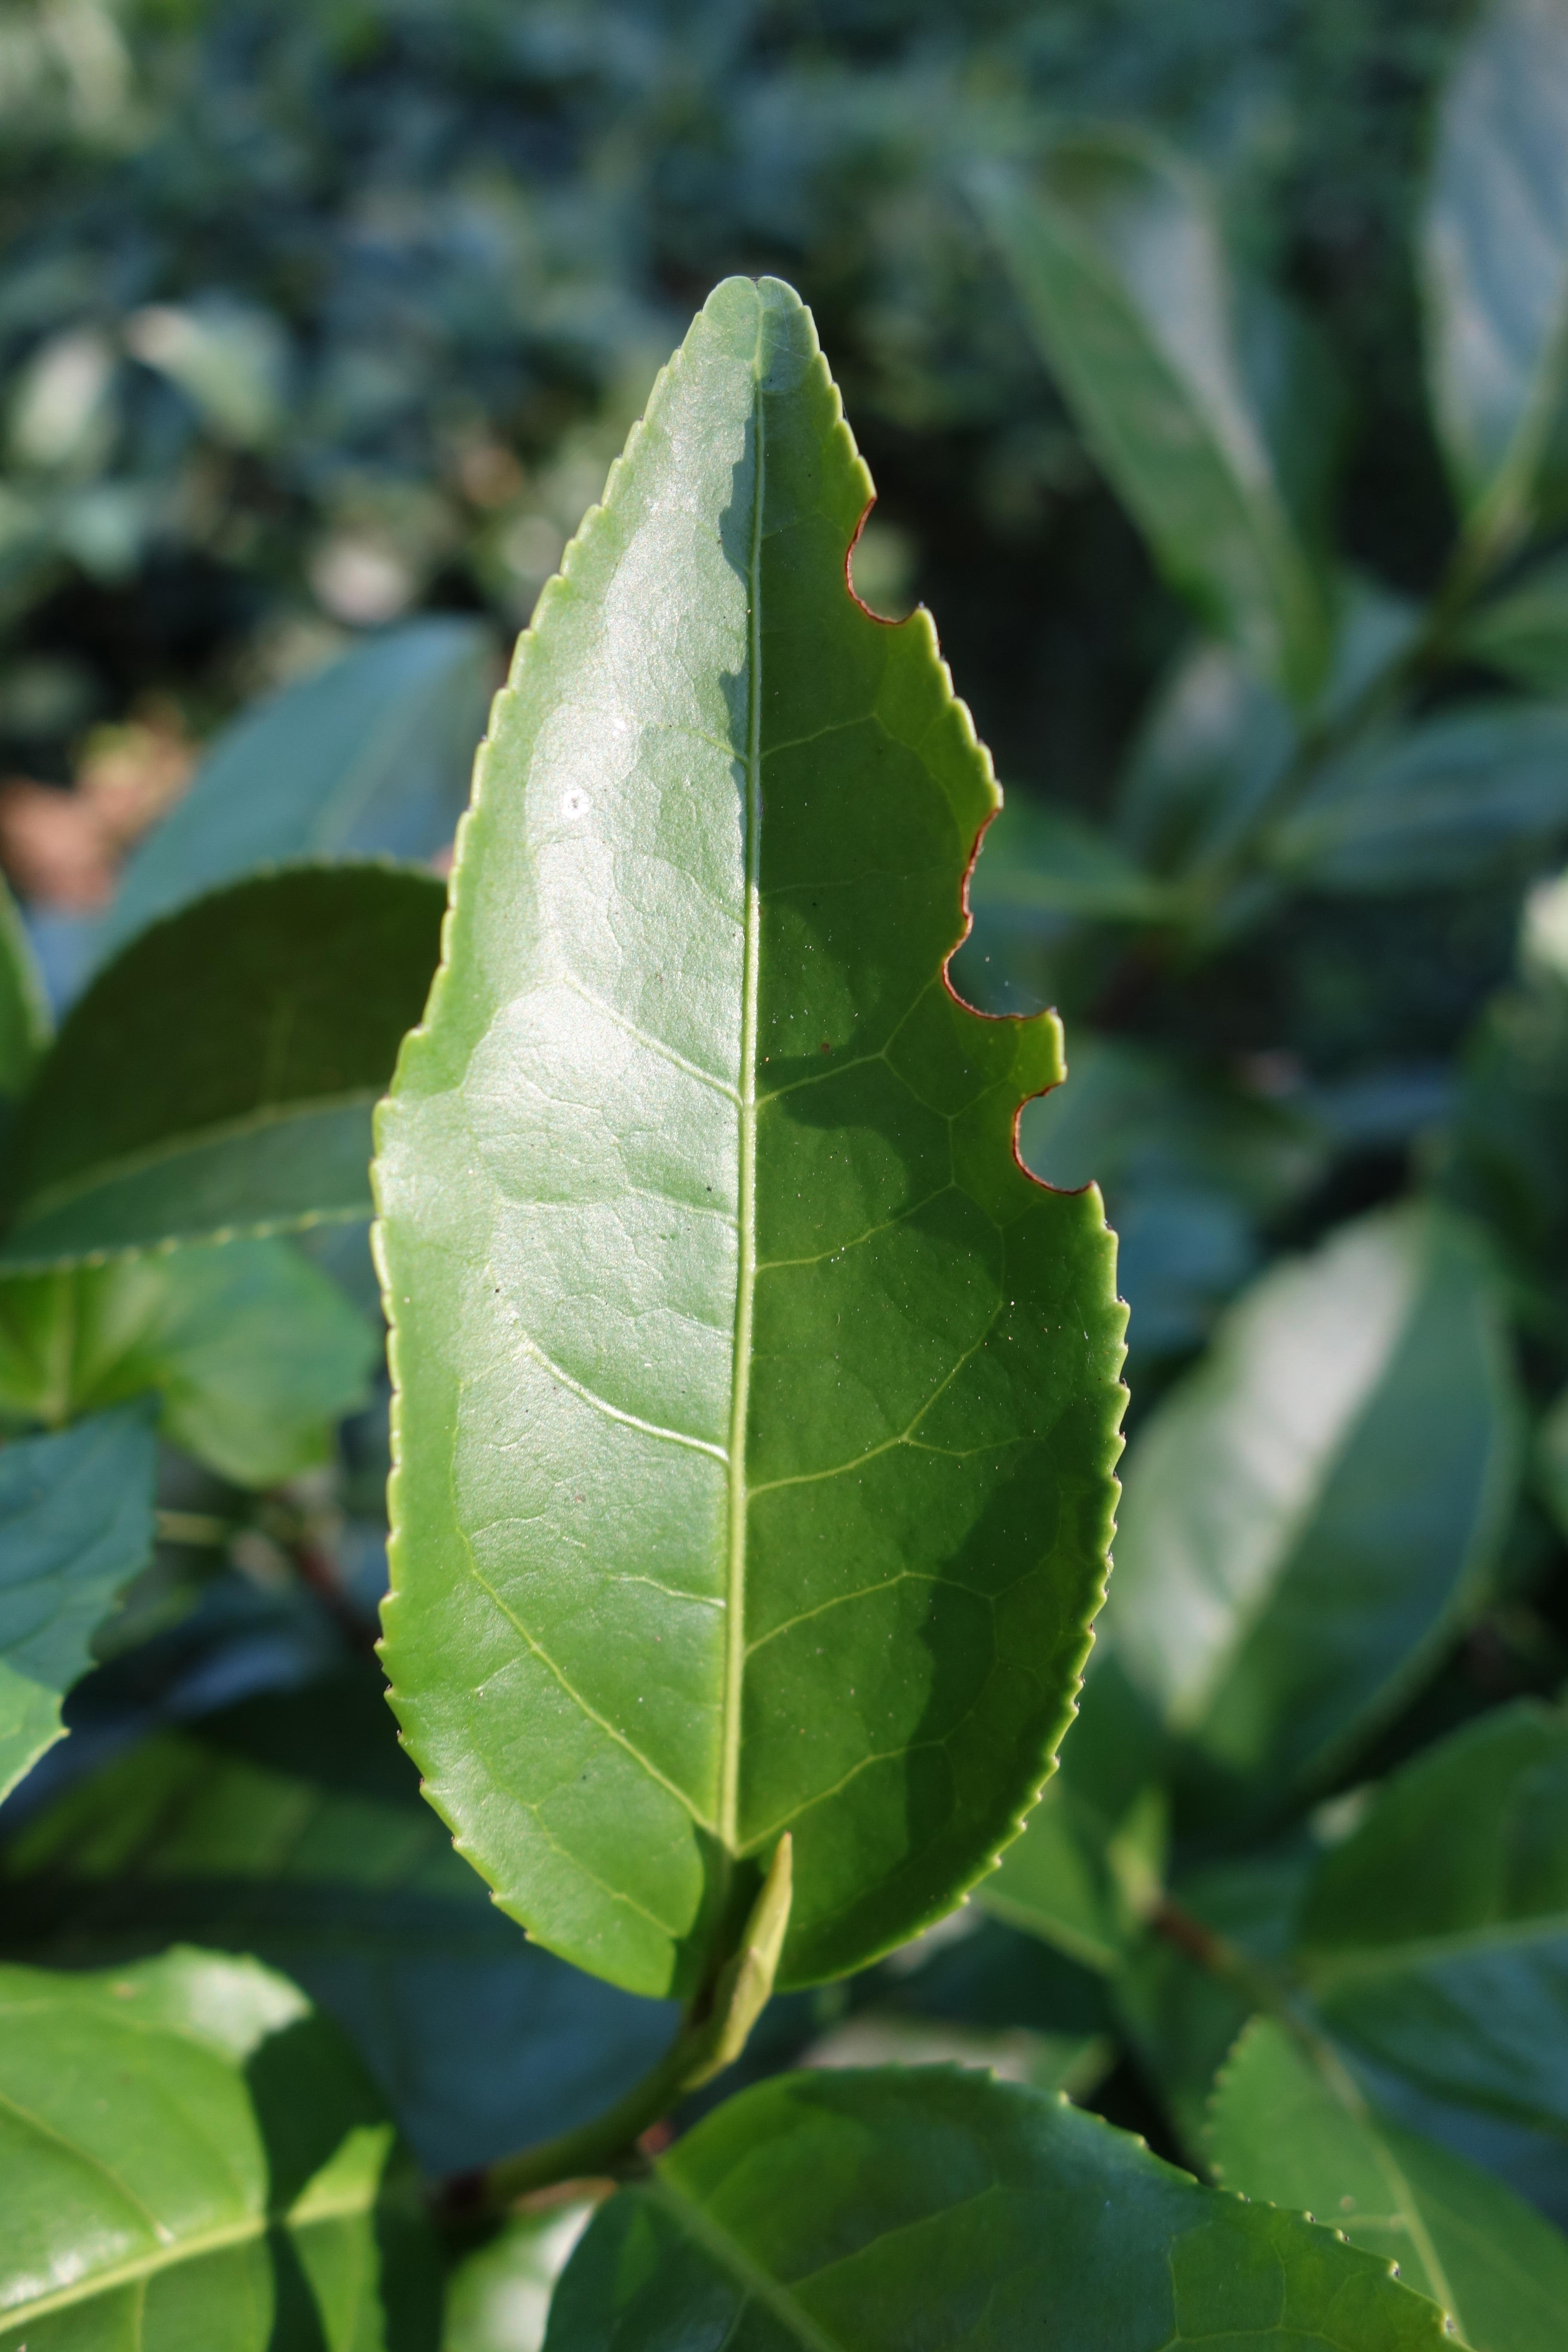chihuo_high: (352, 273, 1141, 2011)
